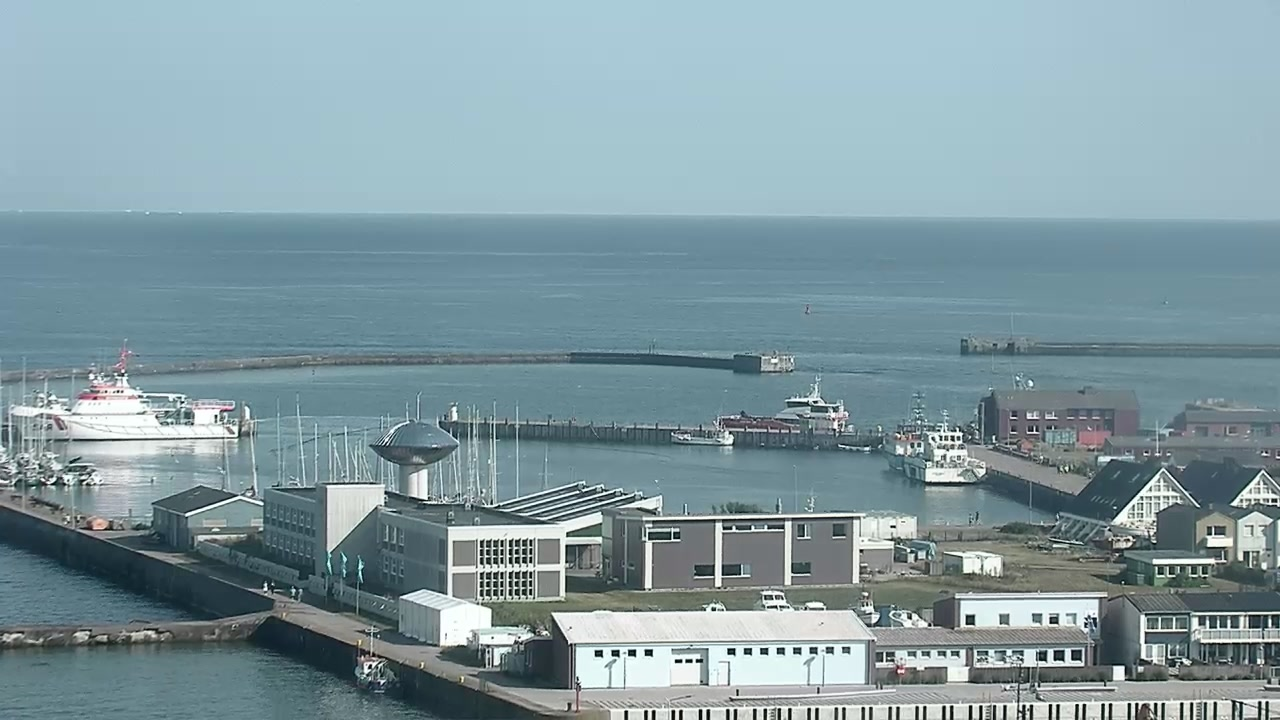human: (296, 586, 304, 603), (289, 583, 297, 599), (63, 512, 71, 526), (967, 511, 974, 526), (973, 509, 980, 524), (263, 578, 269, 595), (269, 578, 275, 595), (75, 512, 81, 529)
sea: (6, 335, 253, 438), (879, 390, 989, 487), (715, 365, 850, 428), (234, 418, 266, 499), (352, 641, 397, 691), (669, 412, 735, 446), (845, 579, 881, 626), (21, 405, 41, 485), (39, 405, 59, 485), (60, 452, 104, 485), (886, 605, 933, 628), (752, 587, 793, 609), (835, 440, 871, 451)
